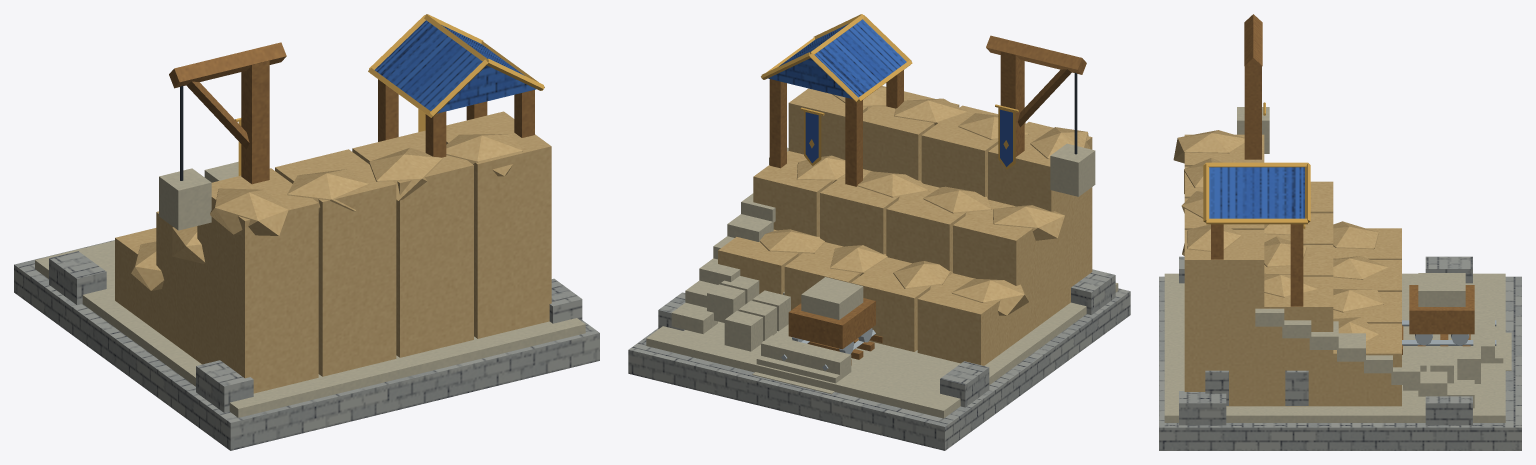
The model's file is Quarry_2.fbx.
The picture shows the model from 3 angles, left to right: view 1: azimuth 30°, elevation 25°; view 2: azimuth 150°, elevation 25°; view 3: azimuth 270°, elevation 25°; orthographic projection. The views are drawn at different scales.
Parts seen in each view (by area): view 1: Quarry_2; view 2: Quarry_2; view 3: Quarry_2.
Boxes of the visible parts, x1,y1,x2,y2 form: Quarry_2: [14, 14, 599, 450]; Quarry_2: [628, 14, 1130, 450]; Quarry_2: [1159, 14, 1521, 450].
Size of the model in its own units: 1 by 0.87 by 1.
1 material, 1 textured.
